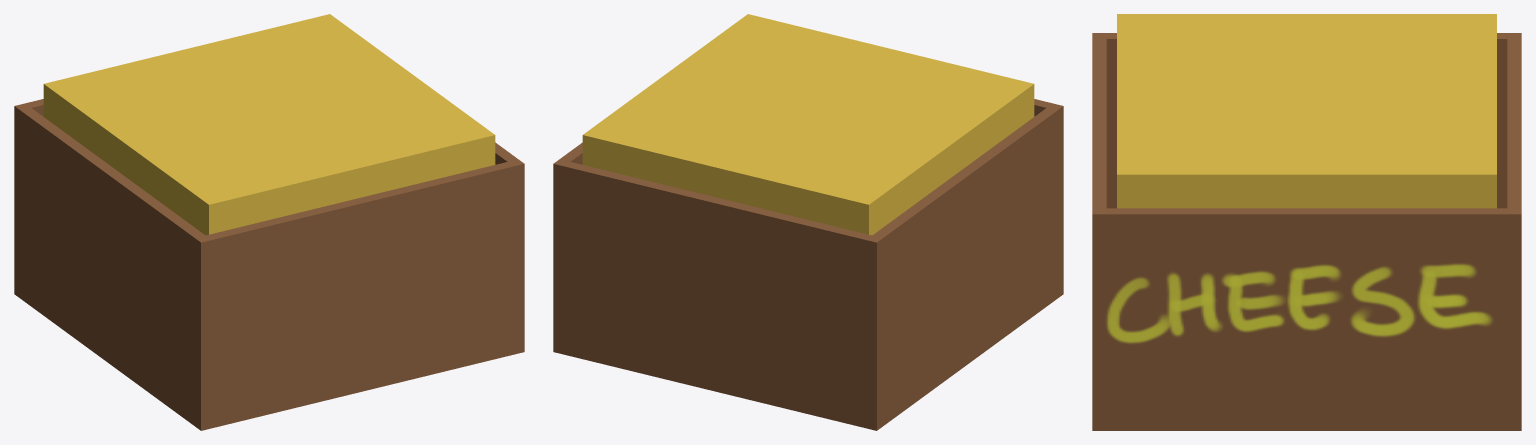
File: cheese.fbx
The picture shows the model from 3 angles, left to right: view 1: azimuth 30°, elevation 25°; view 2: azimuth 150°, elevation 25°; view 3: azimuth 270°, elevation 25°; orthographic projection. The views are drawn at different scales.
Parts seen in each view (by area): view 1: Cube; view 2: Cube; view 3: Cube.
Boxes of the visible parts, x1,y1,x2,y2 form: Cube: [14, 14, 524, 430]; Cube: [553, 14, 1063, 430]; Cube: [1092, 14, 1521, 430].
Bounding box in the file's own units: 200 × 126 × 200.
